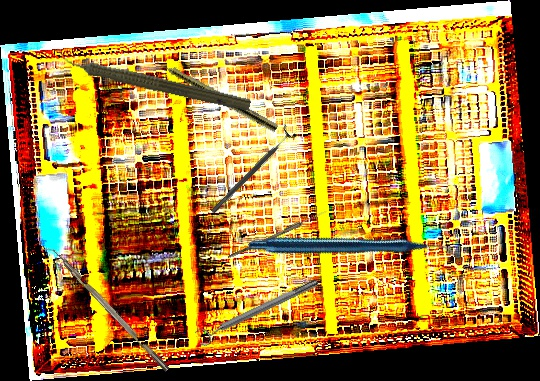Chopper: (40, 240, 170, 378)
Fixation Ring: (193, 273, 322, 349), (205, 123, 299, 219)
Handpiece: (246, 148, 458, 352), (51, 46, 253, 115), (145, 52, 280, 133)
Surgical Spoon: (227, 208, 328, 261)
